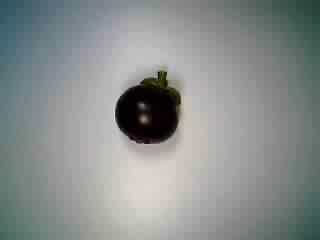mangosteen: (107, 67, 186, 145)
